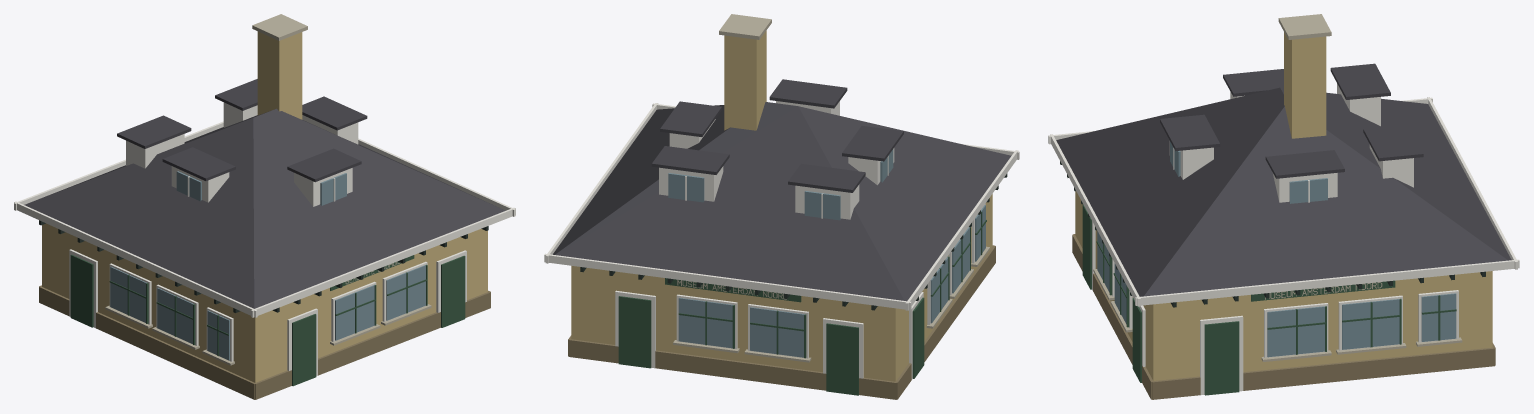
Rendered from museum-amsterdam-noord.glb.
3 renders of one model, left to right at view 1: azimuth 30°, elevation 25°; view 2: azimuth 150°, elevation 25°; view 3: azimuth 270°, elevation 25°, orthographic. The views are drawn at different scales.
Parts seen in each view (by area): view 1: museum-amsterdam-noord; view 2: museum-amsterdam-noord; view 3: museum-amsterdam-noord.
Part boxes in pixels (bbox=[...]): museum-amsterdam-noord: bbox=[14, 14, 515, 399]; museum-amsterdam-noord: bbox=[544, 14, 1019, 399]; museum-amsterdam-noord: bbox=[1048, 14, 1519, 399].
Bounding box in the file's own units: 13.55 × 9.3 × 13.36.
